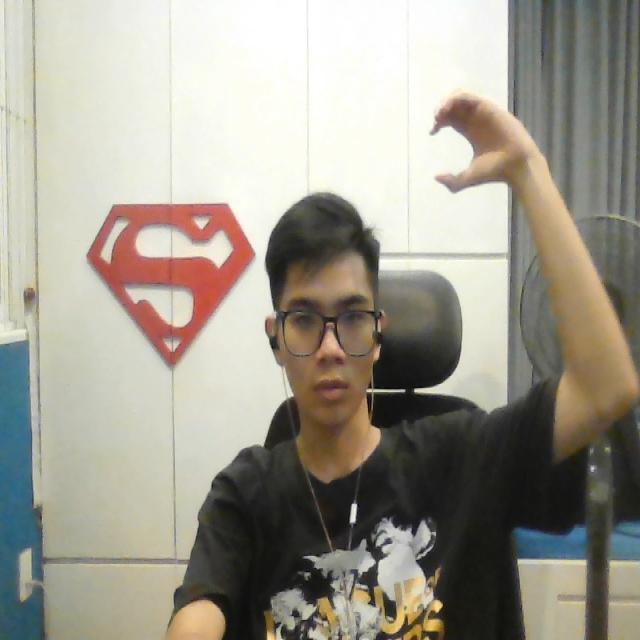C: (421, 78, 540, 216)
